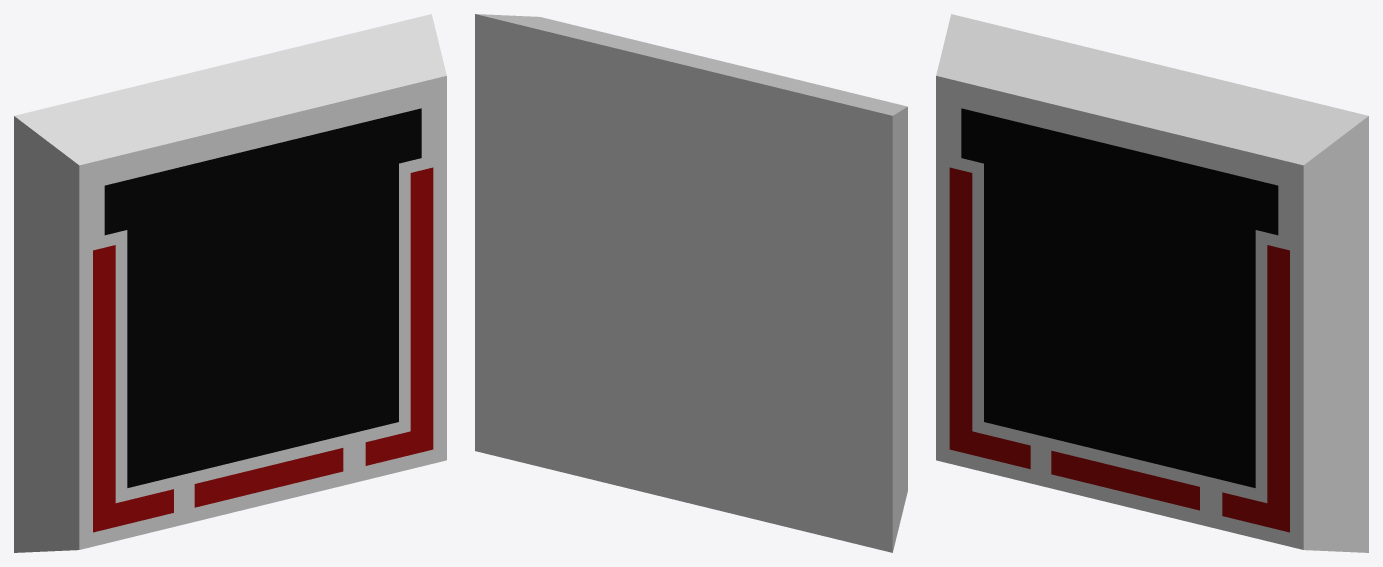
Rendered from SciFi_Modular_Semiotic_Non_Pressurized_Area_Beyond_01.fbx.
3 views of the same model, side by side, from view 1: azimuth 30°, elevation 25°; view 2: azimuth 150°, elevation 25°; view 3: azimuth 330°, elevation 25° (orthographic).
Visible parts, largest first — view 1: SciFi_Modular_Semiotic_Non_Pressurized_Area_Beyond_01; view 2: SciFi_Modular_Semiotic_Non_Pressurized_Area_Beyond_01; view 3: SciFi_Modular_Semiotic_Non_Pressurized_Area_Beyond_01.
Part boxes in pixels (x1,y1,x2,y2): SciFi_Modular_Semiotic_Non_Pressurized_Area_Beyond_01: (14, 14, 446, 552); SciFi_Modular_Semiotic_Non_Pressurized_Area_Beyond_01: (475, 14, 907, 552); SciFi_Modular_Semiotic_Non_Pressurized_Area_Beyond_01: (936, 14, 1368, 552).
Size of the model in its own units: 536 by 536 by 89.41.
